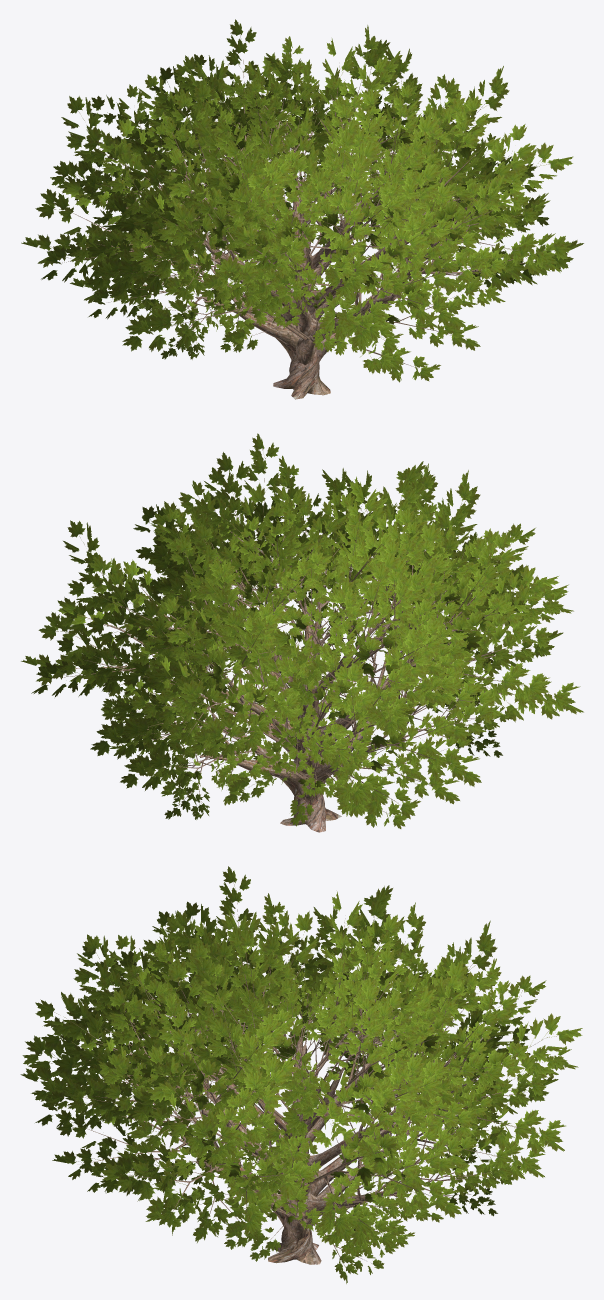
The model's file is baum.fbx.
3 renders of one model, top to bottom at view 1: azimuth 30°, elevation 25°; view 2: azimuth 150°, elevation 25°; view 3: azimuth 270°, elevation 25°, orthographic. The views are drawn at different scales.
Visible parts, largest first — view 1: leaf maple_1, bark02_0; view 2: leaf maple_1, bark02_0; view 3: leaf maple_1, bark02_0.
Part boxes in pixels (left/top/right/bottom): leaf maple_1: left=21, top=19, right=583, bottom=382; bark02_0: left=51, top=60, right=544, bottom=399; leaf maple_1: left=21, top=433, right=583, bottom=828; bark02_0: left=52, top=458, right=554, bottom=832; leaf maple_1: left=20, top=866, right=582, bottom=1283; bark02_0: left=65, top=902, right=542, bottom=1269.
Bounding box in the file's own units: 403 × 257 × 402.
Materials: 2 (2 with a texture image).
